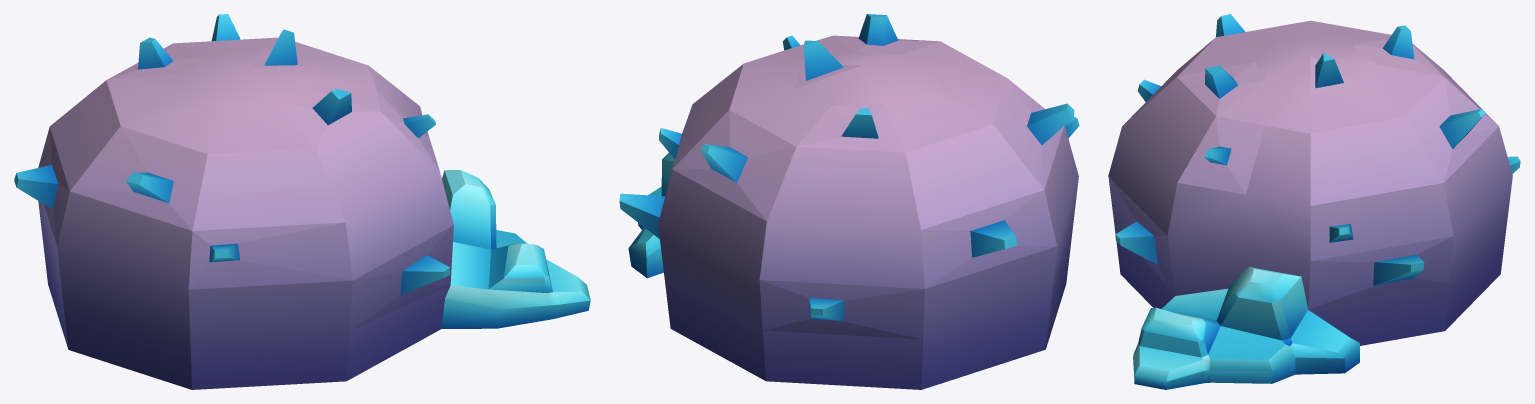
Rendered from roundCactus.fbx.
3 renders of one model, left to right at view 1: azimuth 30°, elevation 25°; view 2: azimuth 150°, elevation 25°; view 3: azimuth 270°, elevation 25°, orthographic. The views are drawn at different scales.
Parts seen in each view (by area): view 1: roundCactus; view 2: roundCactus; view 3: roundCactus.
Part boxes in pixels (left/top/right/bottom): roundCactus: left=14, top=14, right=590, bottom=389; roundCactus: left=619, top=14, right=1079, bottom=389; roundCactus: left=1108, top=14, right=1520, bottom=389.
Size of the model in its own units: 2.42 by 1.32 by 2.04.
